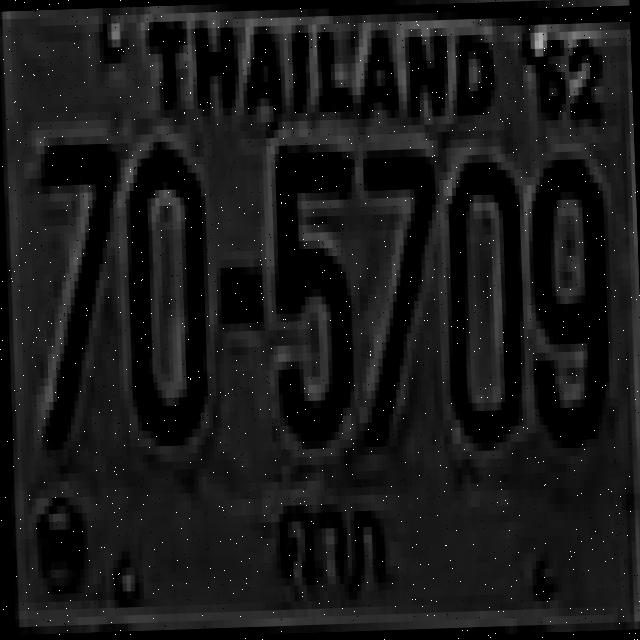0: (123, 136, 209, 434), (437, 150, 523, 440)
5: (265, 135, 355, 434)
7: (34, 135, 124, 442), (356, 140, 442, 438)
9: (524, 150, 610, 440)
Tak: (272, 488, 392, 600)
